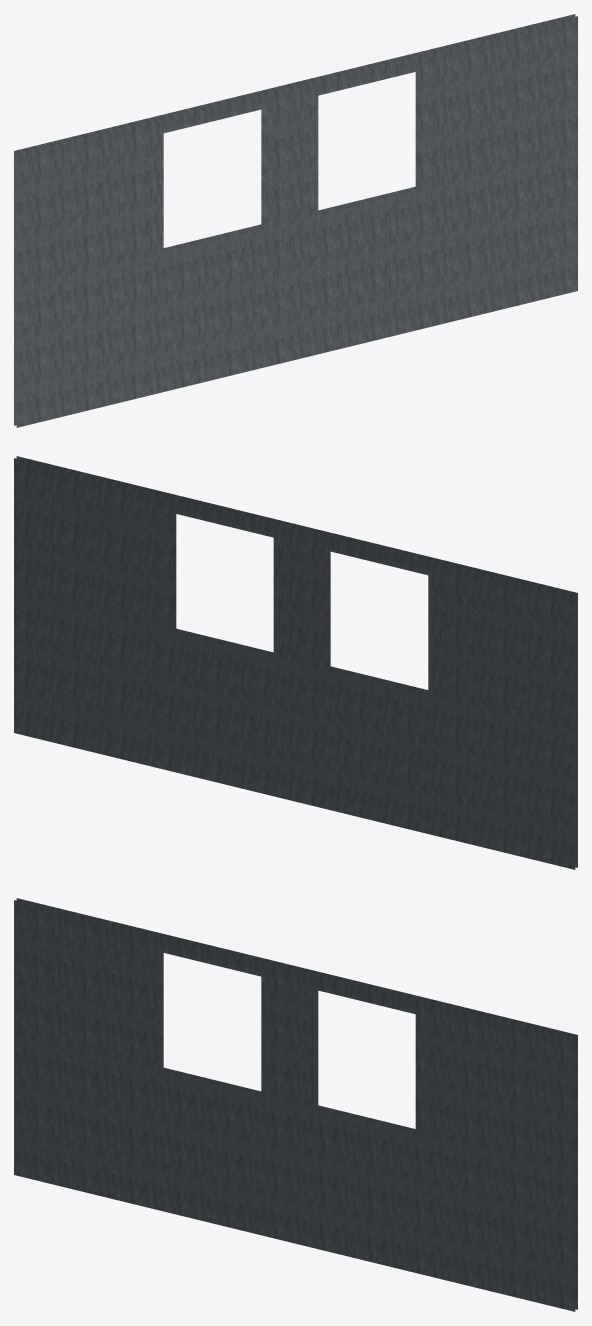
Rendered from floor_18.obj.
The picture shows the model from 3 angles, top to bottom: view 1: azimuth 30°, elevation 25°; view 2: azimuth 150°, elevation 25°; view 3: azimuth 330°, elevation 25°; orthographic projection.
Parts seen in each view (by area): view 1: floor_18; view 2: floor_18; view 3: floor_18.
Boxes of the visible parts, x1,y1,x2,y2 form: floor_18: [14, 14, 577, 427]; floor_18: [14, 456, 577, 869]; floor_18: [14, 898, 577, 1311].
Bounding box in the file's own units: 11.75 × 5.5 × 0.1.
1 material, 1 textured.
